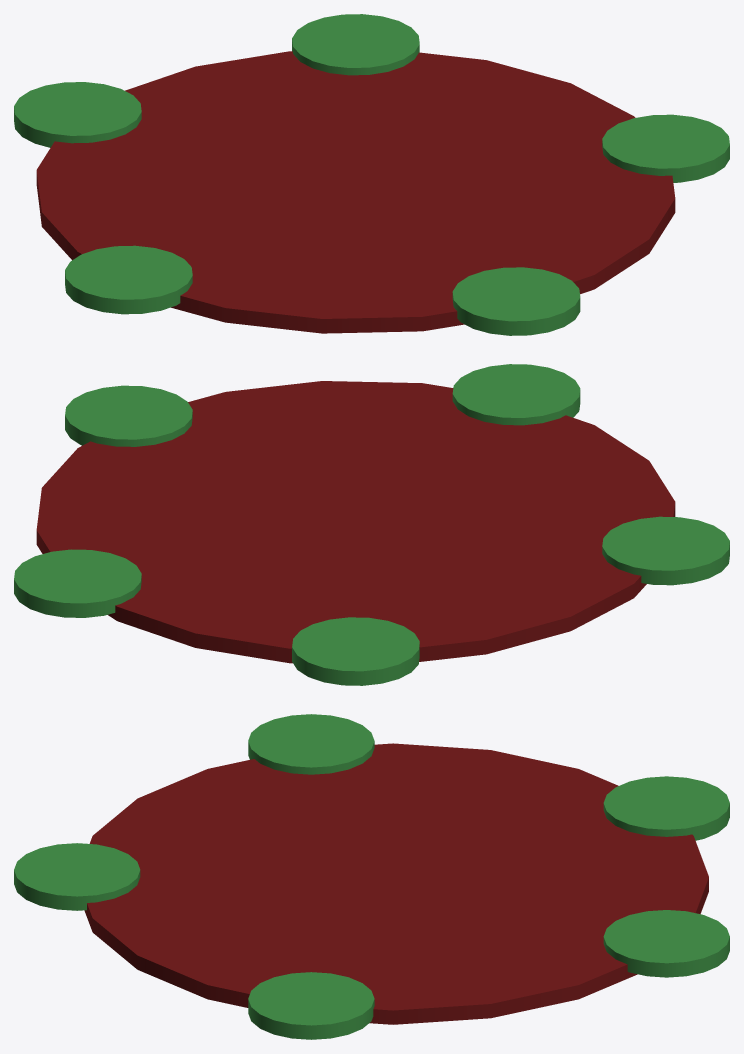
The model's file is Summoning Circle.fbx.
The picture shows the model from 3 angles, top to bottom: view 1: azimuth 30°, elevation 25°; view 2: azimuth 150°, elevation 25°; view 3: azimuth 270°, elevation 25°; orthographic projection.
Parts seen in each view (by area): view 1: Summoning_Circle, Cylinder, Cylinder_4, Cylinder_3, Cylinder_1, Cylinder_2; view 2: Summoning_Circle, Cylinder_1, Cylinder_2, Cylinder_4, Cylinder_3, Cylinder; view 3: Summoning_Circle, Cylinder_3, Cylinder_2, Cylinder, Cylinder_1, Cylinder_4.
Boxes of the visible parts, x1,y1,x2,y2 form: Summoning_Circle: (36,51,675,333); Cylinder: (452,267,580,335); Cylinder_4: (65,245,192,314); Cylinder_3: (602,114,729,182); Cylinder_1: (14,82,141,147); Cylinder_2: (292,14,419,75); Summoning_Circle: (36,381,675,663); Cylinder_1: (292,617,419,685); Cylinder_2: (14,549,141,617); Cylinder_4: (602,516,729,585); Cylinder_3: (65,385,192,446); Cylinder: (452,364,580,425); Summoning_Circle: (84,743,708,1024); Cylinder_3: (248,972,374,1039); Cylinder_2: (603,910,729,977); Cylinder: (14,843,140,910); Cylinder_1: (603,776,729,840); Cylinder_4: (248,714,374,774).
Size of the model in its own units: 933 by 30 by 906.
